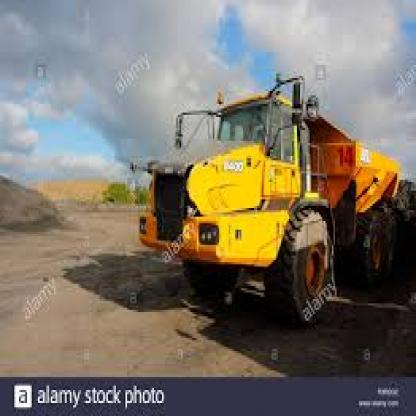dump_truck: (133, 78, 402, 340)
